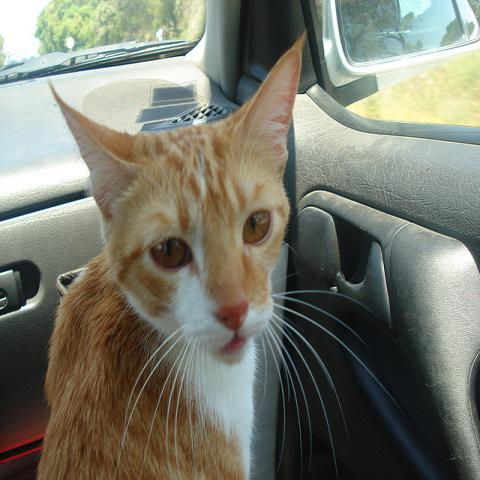car: (3, 23, 479, 476)
